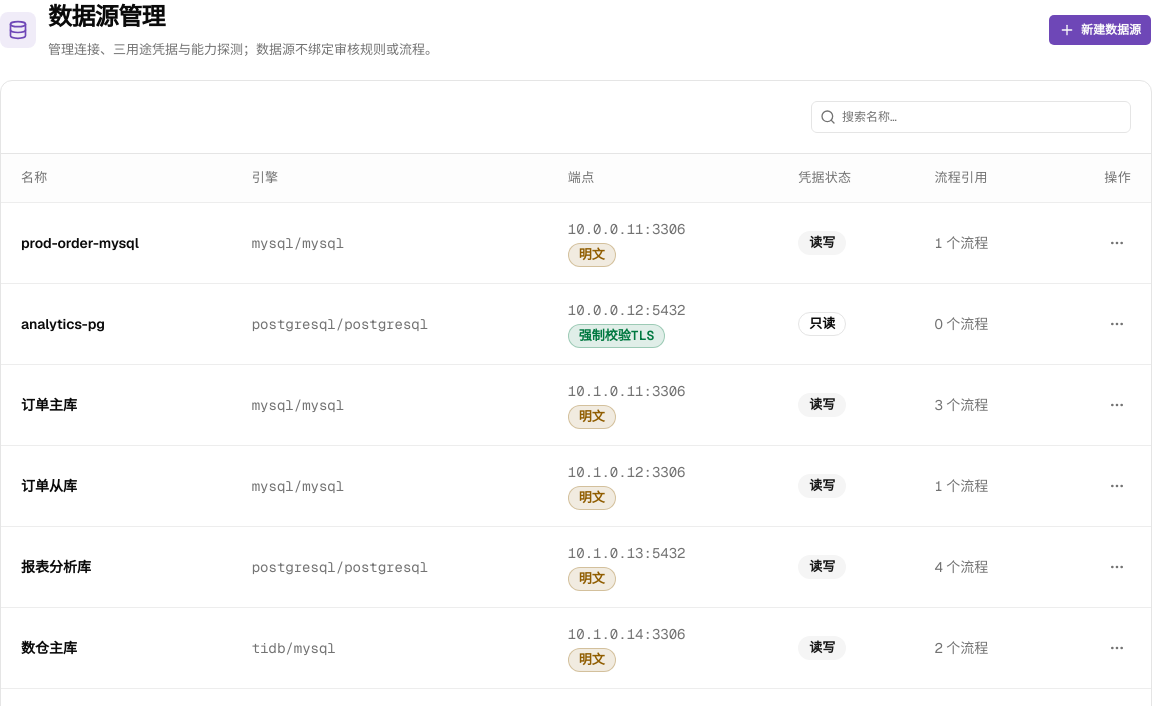
Scenario: admin table search (§18.37) › datasources: filters by name and host
Expected: the heading "数据源管理" is shown, [48,1,165,32]
Expected: the row with test id "ds-row-" is shown, [1,202,1151,283]
Type "订单主库" into the field with test id "admin-datasources-search" at {"x": 983, "y": 117}, box [836,101,1130,133]
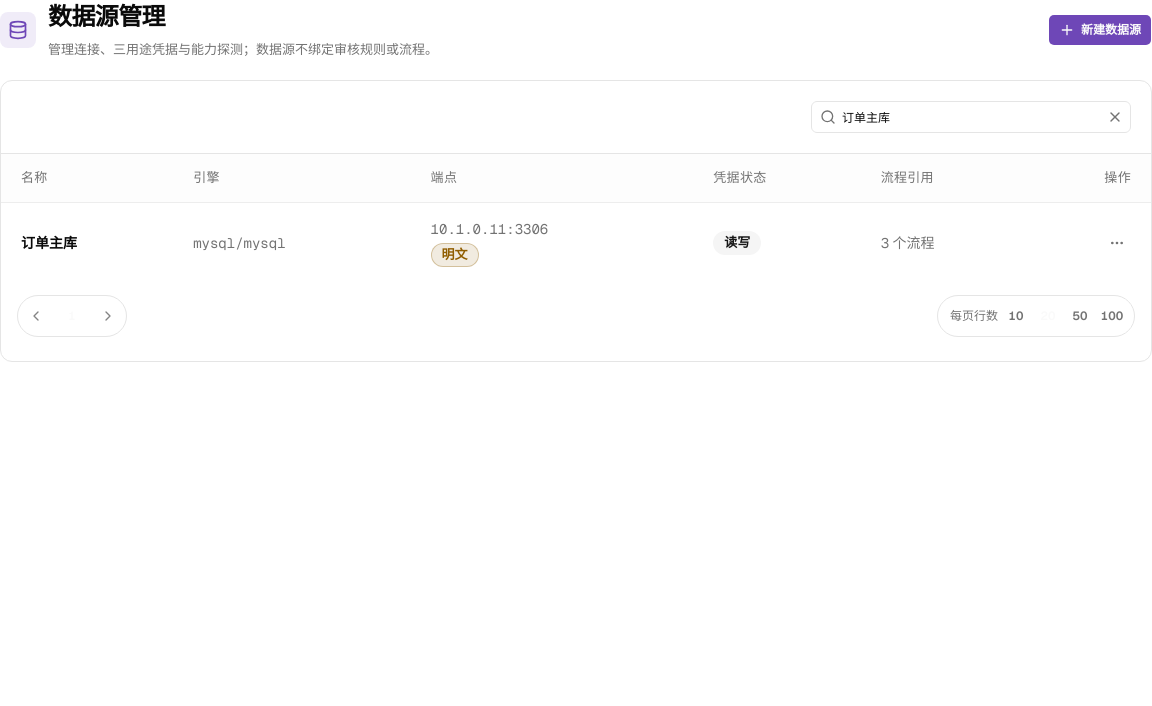
Replace the text in the field with test id "admin-datasources-search" with "10.0.0.11" at {"x": 969, "y": 117}, box [836,101,1103,133]
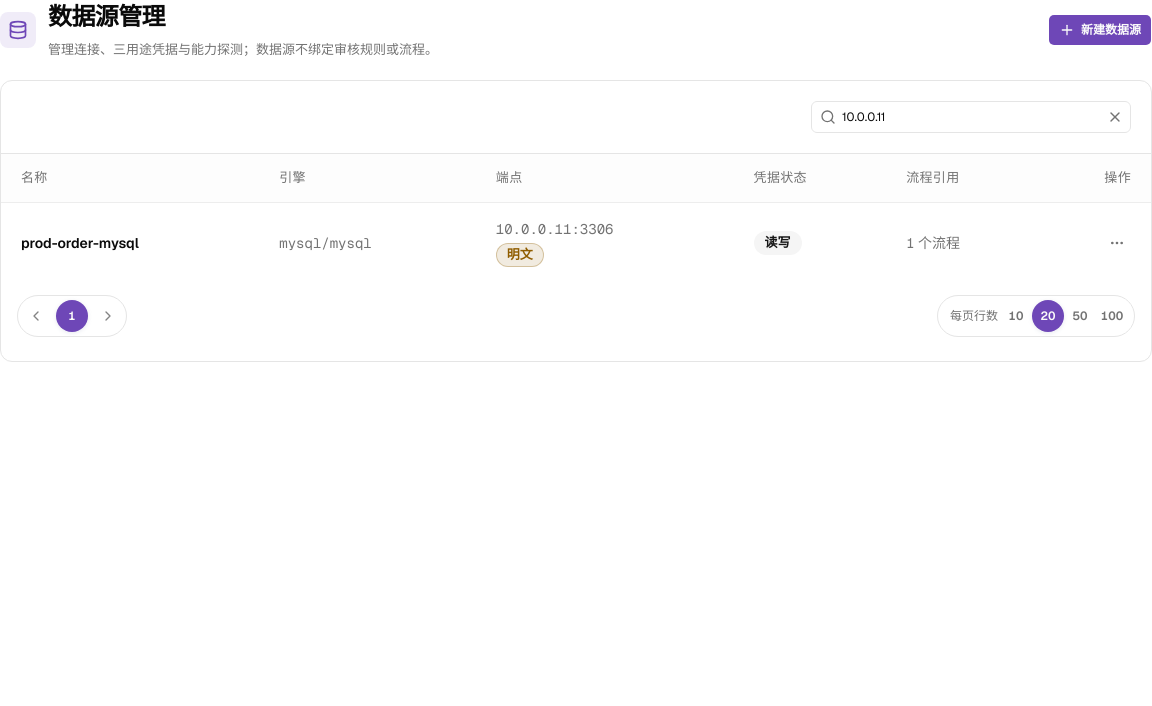
Result: the text "prod-order-mysql" is shown at [1,202,259,283]
Replace the text in the field with test id "admin-datasources-search" with "不存在" at {"x": 969, "y": 117}, box [836,101,1103,133]
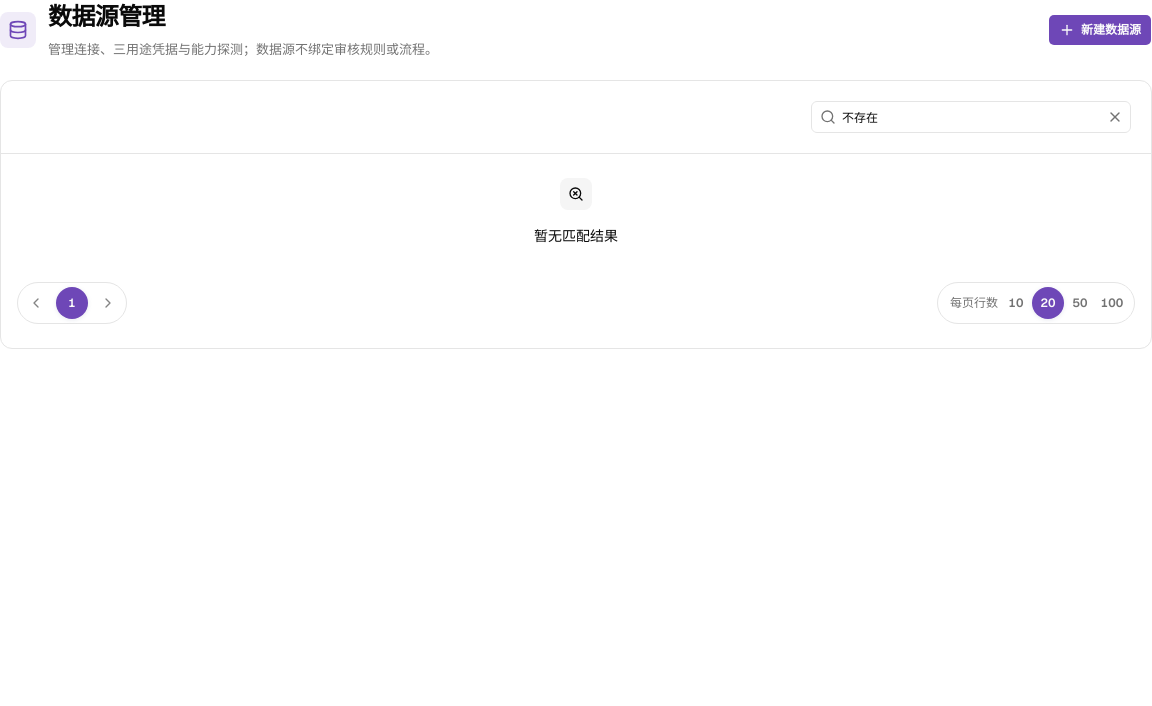
Result: the element with test id "admin-datasources-search-empty" is shown at [534,178,618,245]
